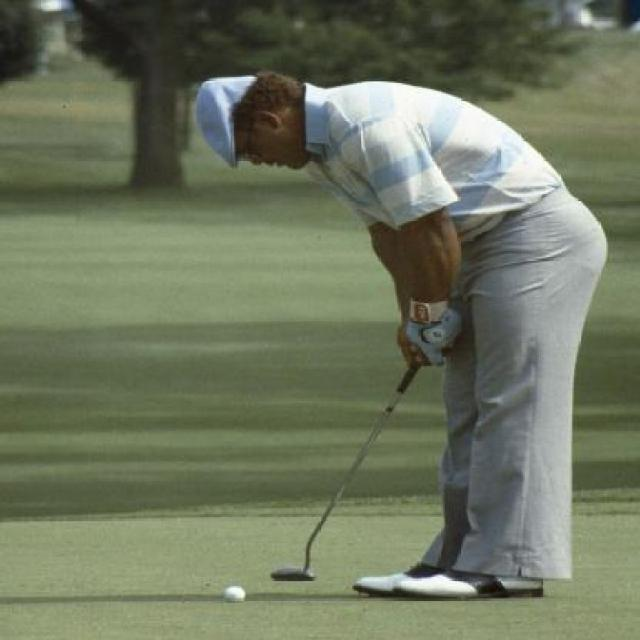club head: (269, 552, 317, 582)
